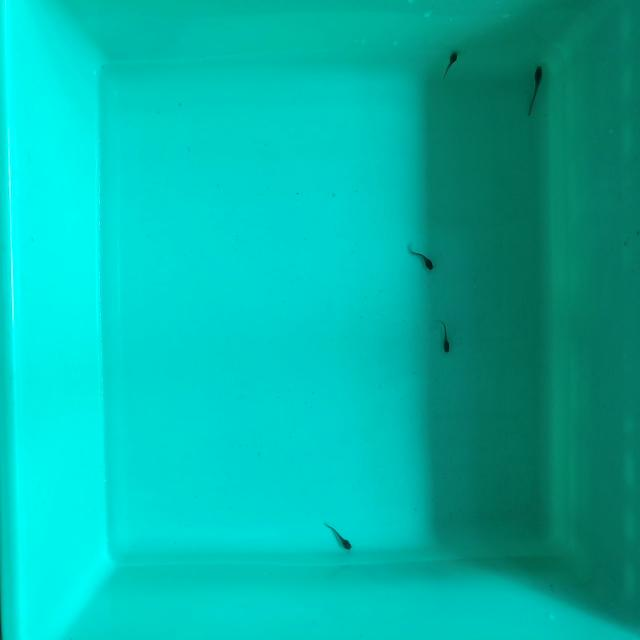lele: (321, 518, 354, 553), (410, 246, 436, 273), (530, 66, 544, 114), (439, 318, 451, 353), (444, 52, 458, 78)
